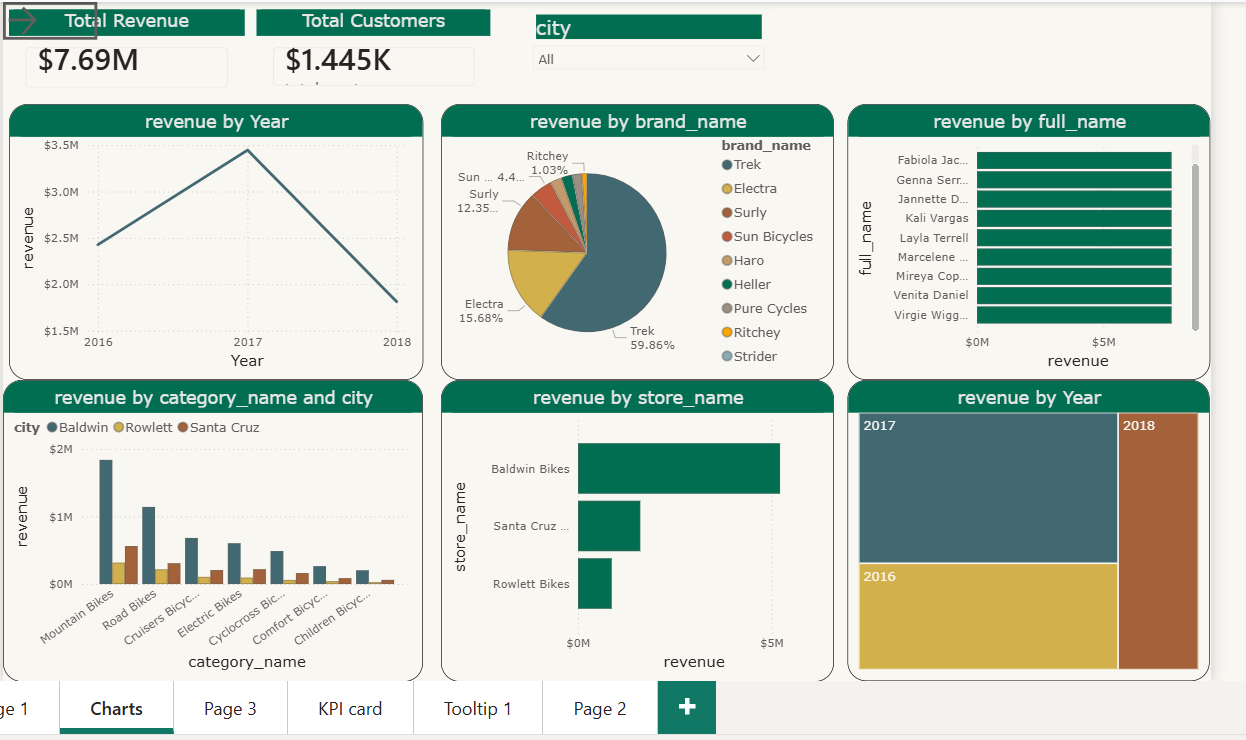

What the dashboard file says about the page in this screenshot:
{"tool":"powerbi","page":{"name":"Charts","canvas":[1280,720],"ordinal":1},"visuals":[{"type":"barChart","fields":{"Category":["Stores.store_name"],"Y":["Table.revenue"]},"box":[464.5,400.8,416.7,319.7],"z":0},{"type":"clusteredColumnChart","fields":{"Category":["Categories.category_name"],"Y":["Table.revenue"],"Series":["Stores.city"]},"box":[0,400.8,445.4,319.7],"z":1000},{"type":"lineChart","fields":{"Y":["Table.revenue"],"Category":["Orders.order_date.Variation.Date Hierarchy.Year","Orders.order_date.Variation.Date Hierarchy.Quarter","Orders.order_date.Variation.Date Hierarchy.Month","Orders.order_date.Variation.Date Hierarchy.Day"]},"box":[6.4,108.2,439,292.7],"z":2000},{"type":"pieChart","fields":{"Category":["Brands.brand_name"],"Y":["Table.revenue"]},"box":[464.5,108.2,416.7,292.7],"z":3000},{"type":"cardVisual","title":"Total Revenue","fields":{"Data":["Table.revenue"]},"box":[6.4,8,249.7,100.2],"z":4000},{"type":"slicer","fields":{"Values":["Stores.city"]},"box":[551.9,8,265.6,90.7],"z":5000},{"type":"cardVisual","title":"Total Customers","fields":{"Data":["Table.total_customers"]},"box":[268.8,8,248.1,98.6],"z":6000},{"type":"actionButton","box":[0,0,100,40],"z":7000},{"type":"actionButton","box":[0,0,100,40],"z":8000},{"type":"barChart","fields":{"Category":["Staffs.full_name"],"Y":["Table.revenue"]},"box":[895.5,108.2,384.9,292.7],"z":9000},{"type":"treemap","fields":{"Group":["Orders.Year"],"Values":["Table.revenue"]},"box":[896,401,384,319],"z":10000}]}

Visuals, with their boxes on the page's 1280x720 design canvas (x1, y1, x2, y2). These are canvas units, not pixel positions in the 1246x740 screenshot, which may show the page scaled, cropped or inside an application window:
barChart - Stores.store_name x Table.revenue: (x1=464, y1=401, x2=881, y2=720)
clusteredColumnChart - Categories.category_name x Table.revenue: (x1=0, y1=401, x2=445, y2=720)
lineChart - Table.revenue x Orders.order_date.Variation.Date Hierarchy.Year: (x1=6, y1=108, x2=445, y2=401)
pieChart - Brands.brand_name x Table.revenue: (x1=464, y1=108, x2=881, y2=401)
"Total Revenue" cardVisual: (x1=6, y1=8, x2=256, y2=108)
slicer - Stores.city: (x1=552, y1=8, x2=818, y2=99)
"Total Customers" cardVisual: (x1=269, y1=8, x2=517, y2=107)
actionButton: (x1=0, y1=0, x2=100, y2=40)
actionButton: (x1=0, y1=0, x2=100, y2=40)
barChart - Staffs.full_name x Table.revenue: (x1=896, y1=108, x2=1280, y2=401)
treemap - Orders.Year x Table.revenue: (x1=896, y1=401, x2=1280, y2=720)
